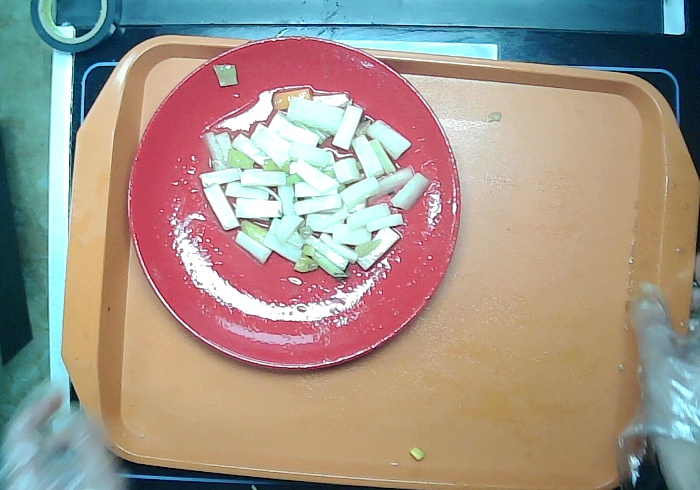HZYJPL-Hong_Se_Yuan_Pan: (121, 32, 462, 379)
